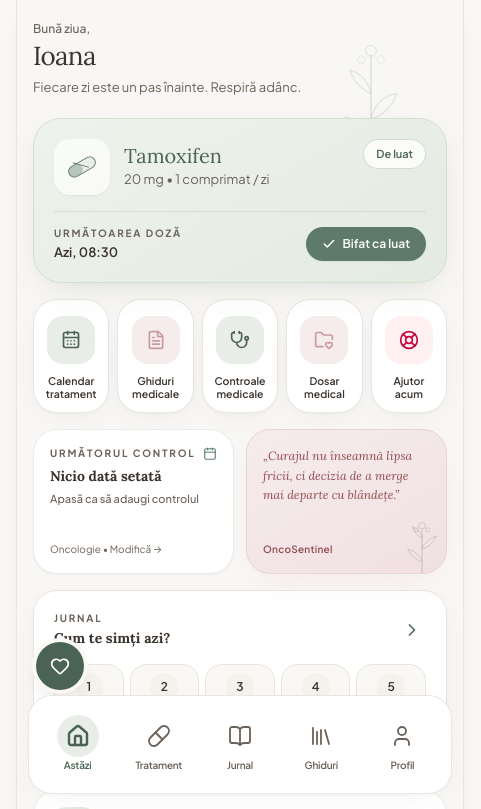
it: Suite de Teste Utilizator E2E - OncoSentinel Flow Complet › 2. Flux Aderență Tamoxifen: Luare Doză -> Scădere Stoc -> Calendar Actualizat
expect the text "Bifat ca luat" is shown: met, box [342,235,410,253]
// Apăsăm că am luat pastila
Click the button "Bifat ca luat".
click(366, 244)  # box [306,227,426,261]
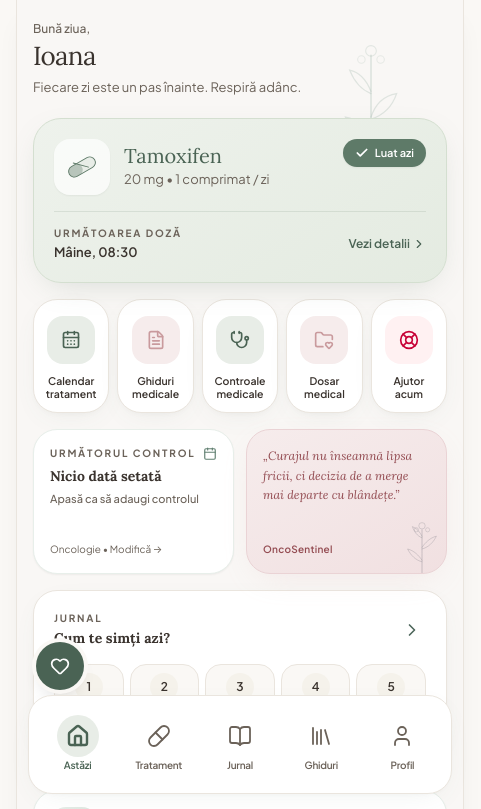
expect the text "Luat azi" is shown: met, box [375,145,414,161]
